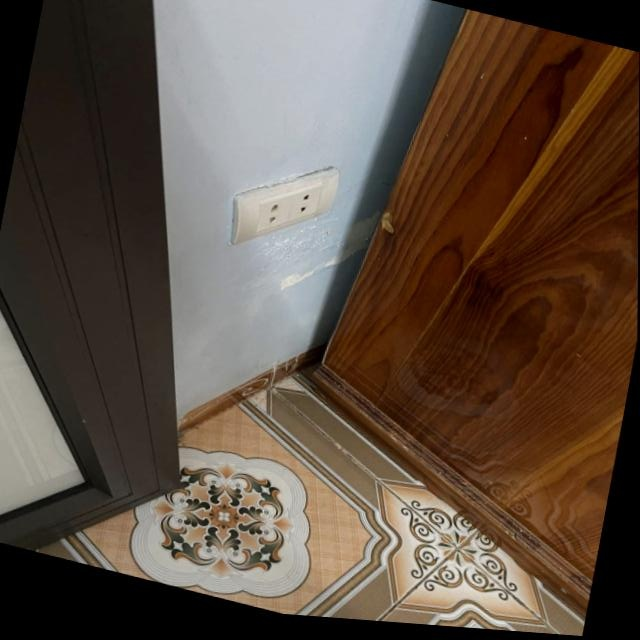outlet: (226, 142, 343, 269)
